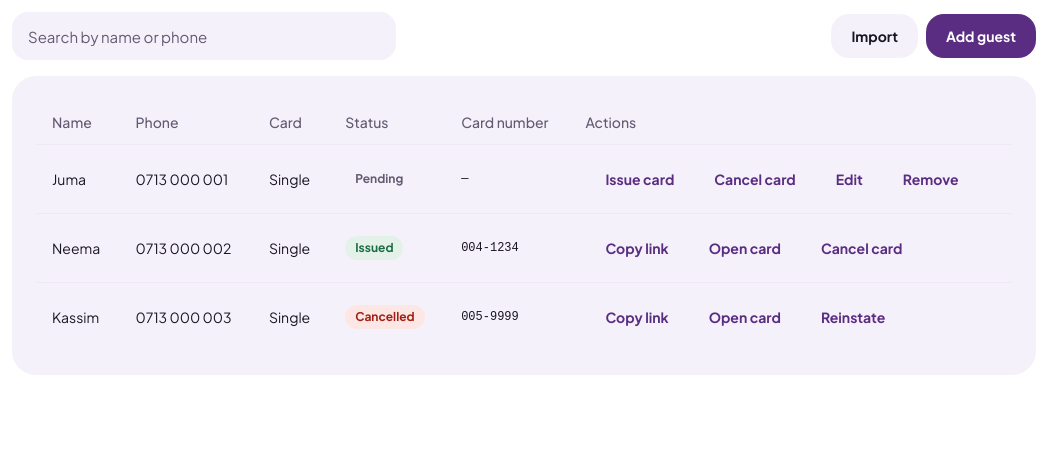
Test: guest card actions › issues after confirmation and updates the row without reload
Click the button "Issue card".
click(640, 179)  # box [585, 157, 694, 201]
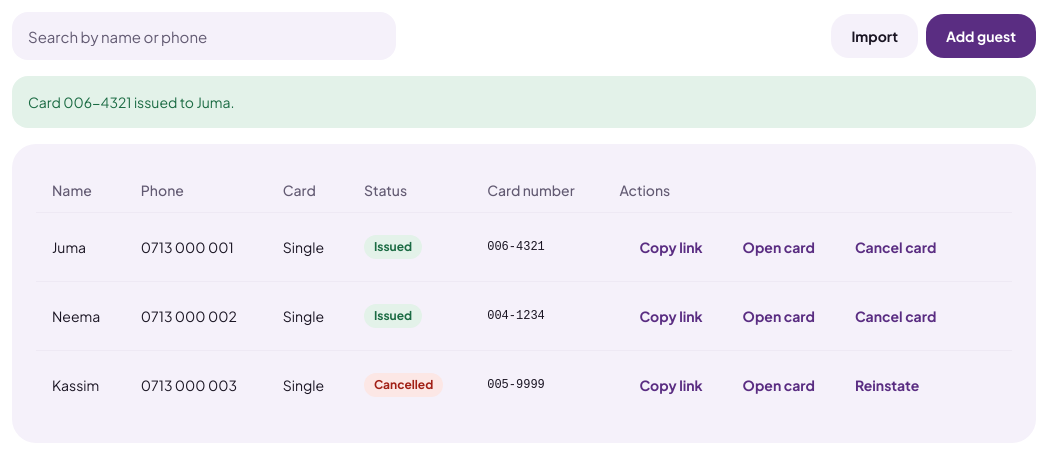
expect the text "Card 006-4321 issued to Juma." is shown: met, box [12, 76, 1036, 128]
expect the text "006-4321" is shown: met, box [471, 212, 603, 282]
expect the button "Edit" is gone: met
